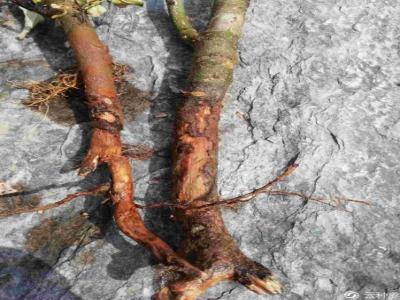Root: (41, 0, 281, 300)
